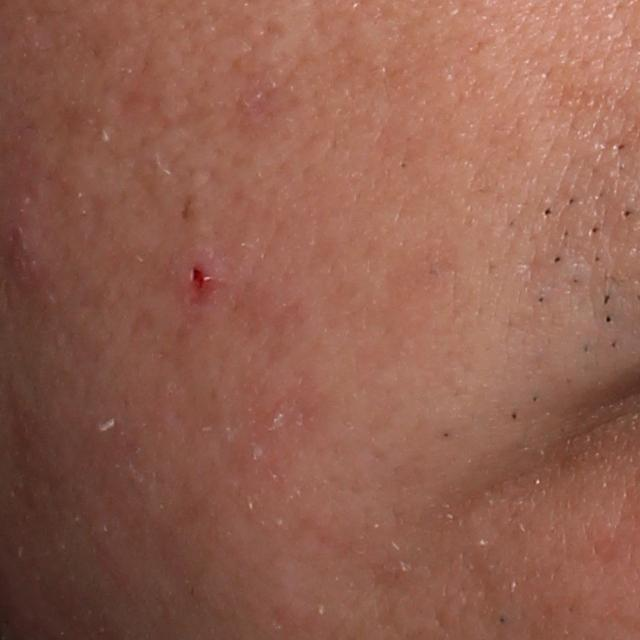papule: (172, 250, 221, 303)
